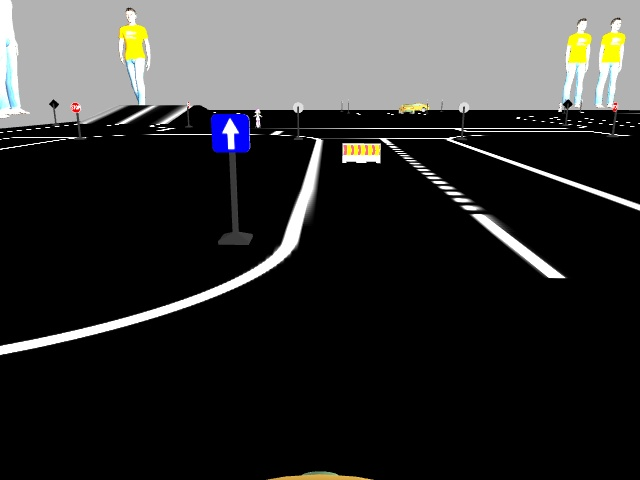ClosedRoadStand: (343, 141, 381, 162)
OneWay: (213, 115, 250, 153)
